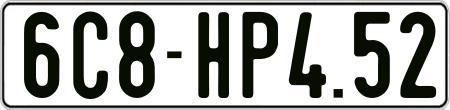2: (398, 9, 432, 101)
4: (287, 9, 328, 98)
5: (353, 11, 389, 99)
6: (23, 9, 64, 99)
8: (116, 9, 158, 99)
C: (70, 12, 105, 102)
H: (198, 9, 234, 98)
P: (243, 12, 283, 100)
